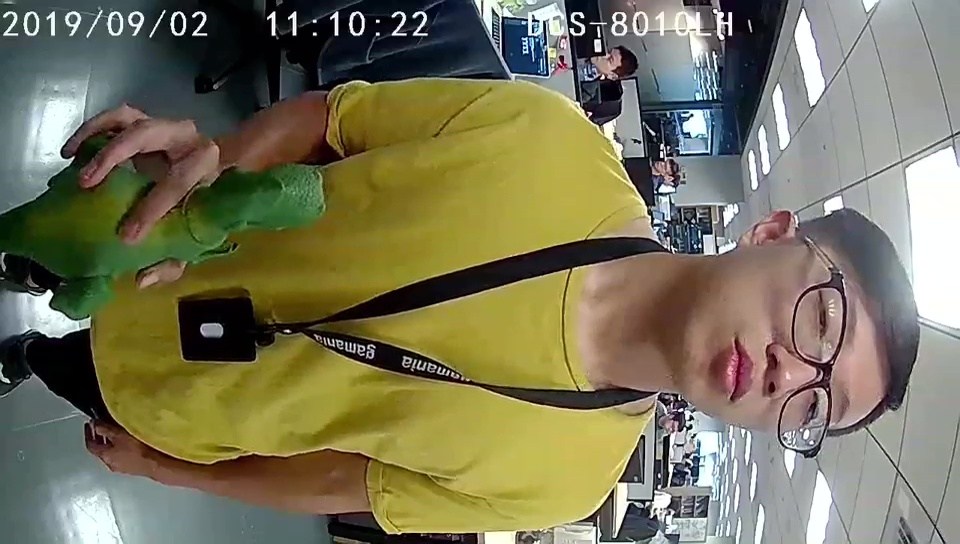rex: (47, 161, 326, 321)
